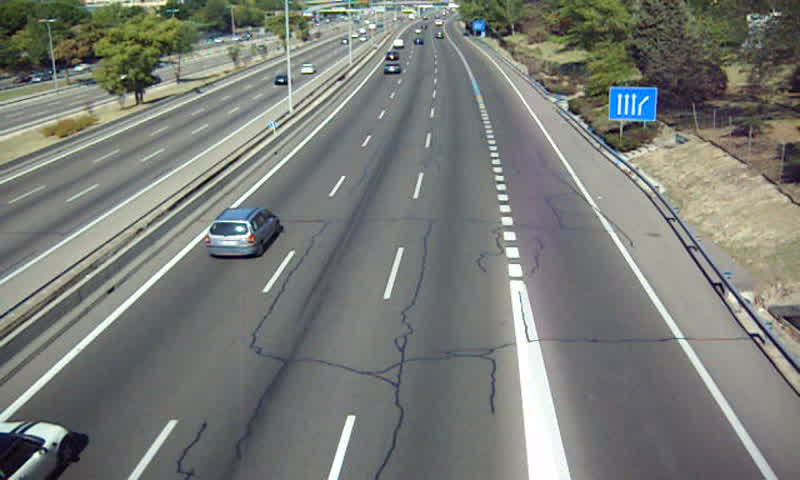car: (204, 207, 280, 256), (382, 61, 404, 76)
